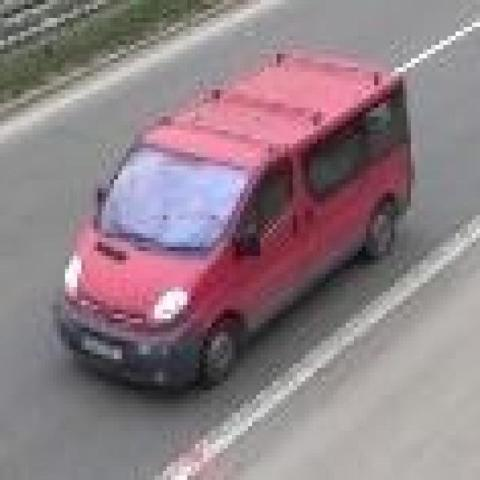van: (57, 56, 411, 388)
